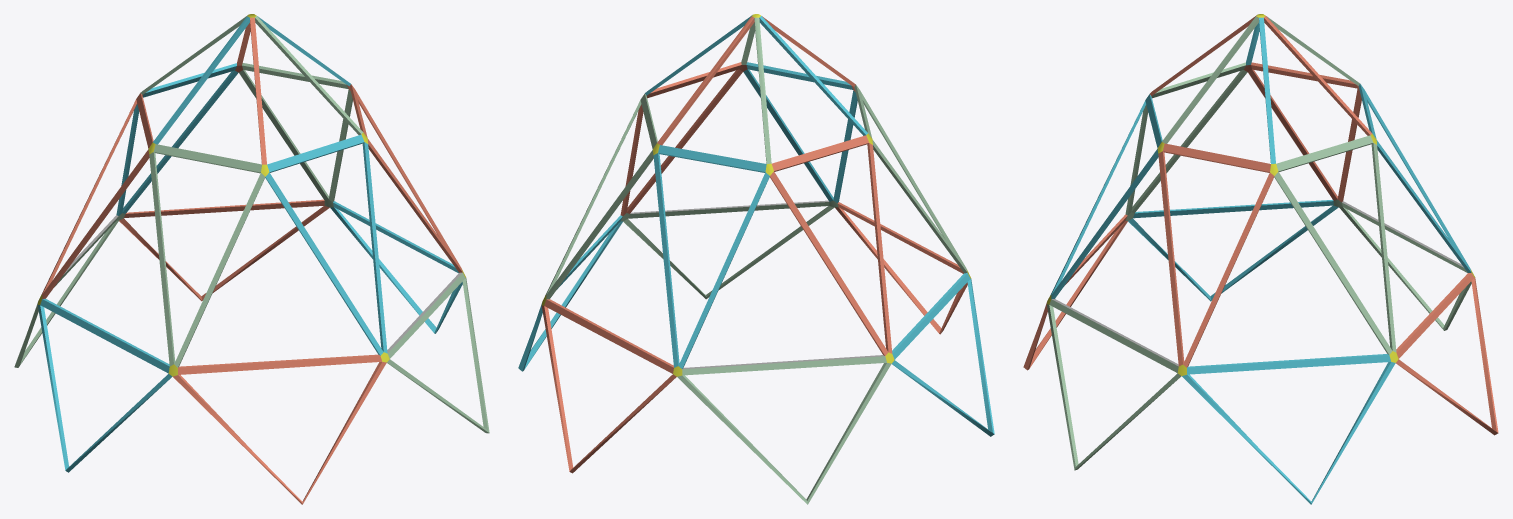
Rendered from JungleGym_Rocket.fbx.
The picture shows the model from 3 angles, left to right: view 1: azimuth 30°, elevation 25°; view 2: azimuth 150°, elevation 25°; view 3: azimuth 270°, elevation 25°; orthographic projection.
Parts seen in each view (by area): view 1: pSphere1; view 2: pSphere1; view 3: pSphere1.
Boxes of the visible parts, x1,y1,x2,y2 form: pSphere1: (14, 14, 489, 504); pSphere1: (518, 14, 994, 504); pSphere1: (1023, 14, 1498, 504).
Size of the model in its own units: 20.66 by 18.03 by 20.05.
